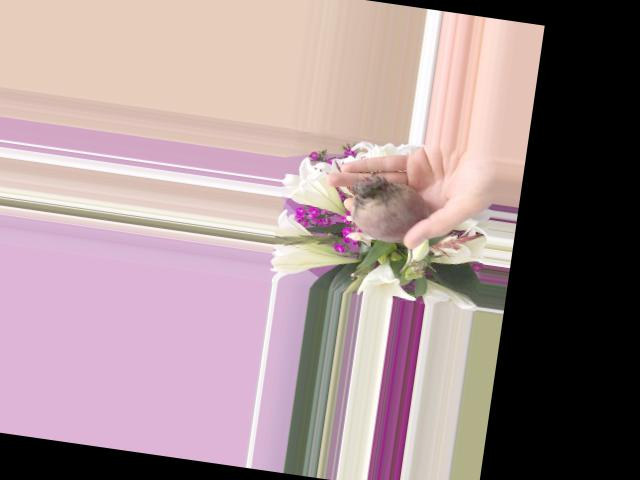beet: (340, 175, 431, 275)
